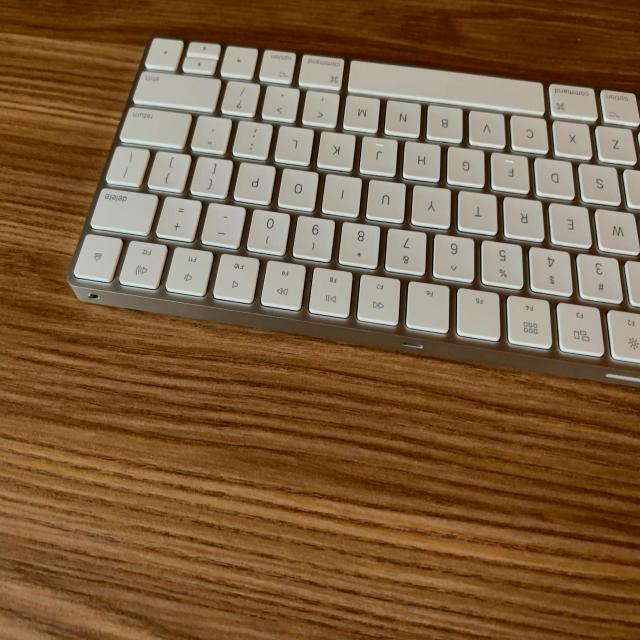keyboard: (70, 29, 640, 393)
